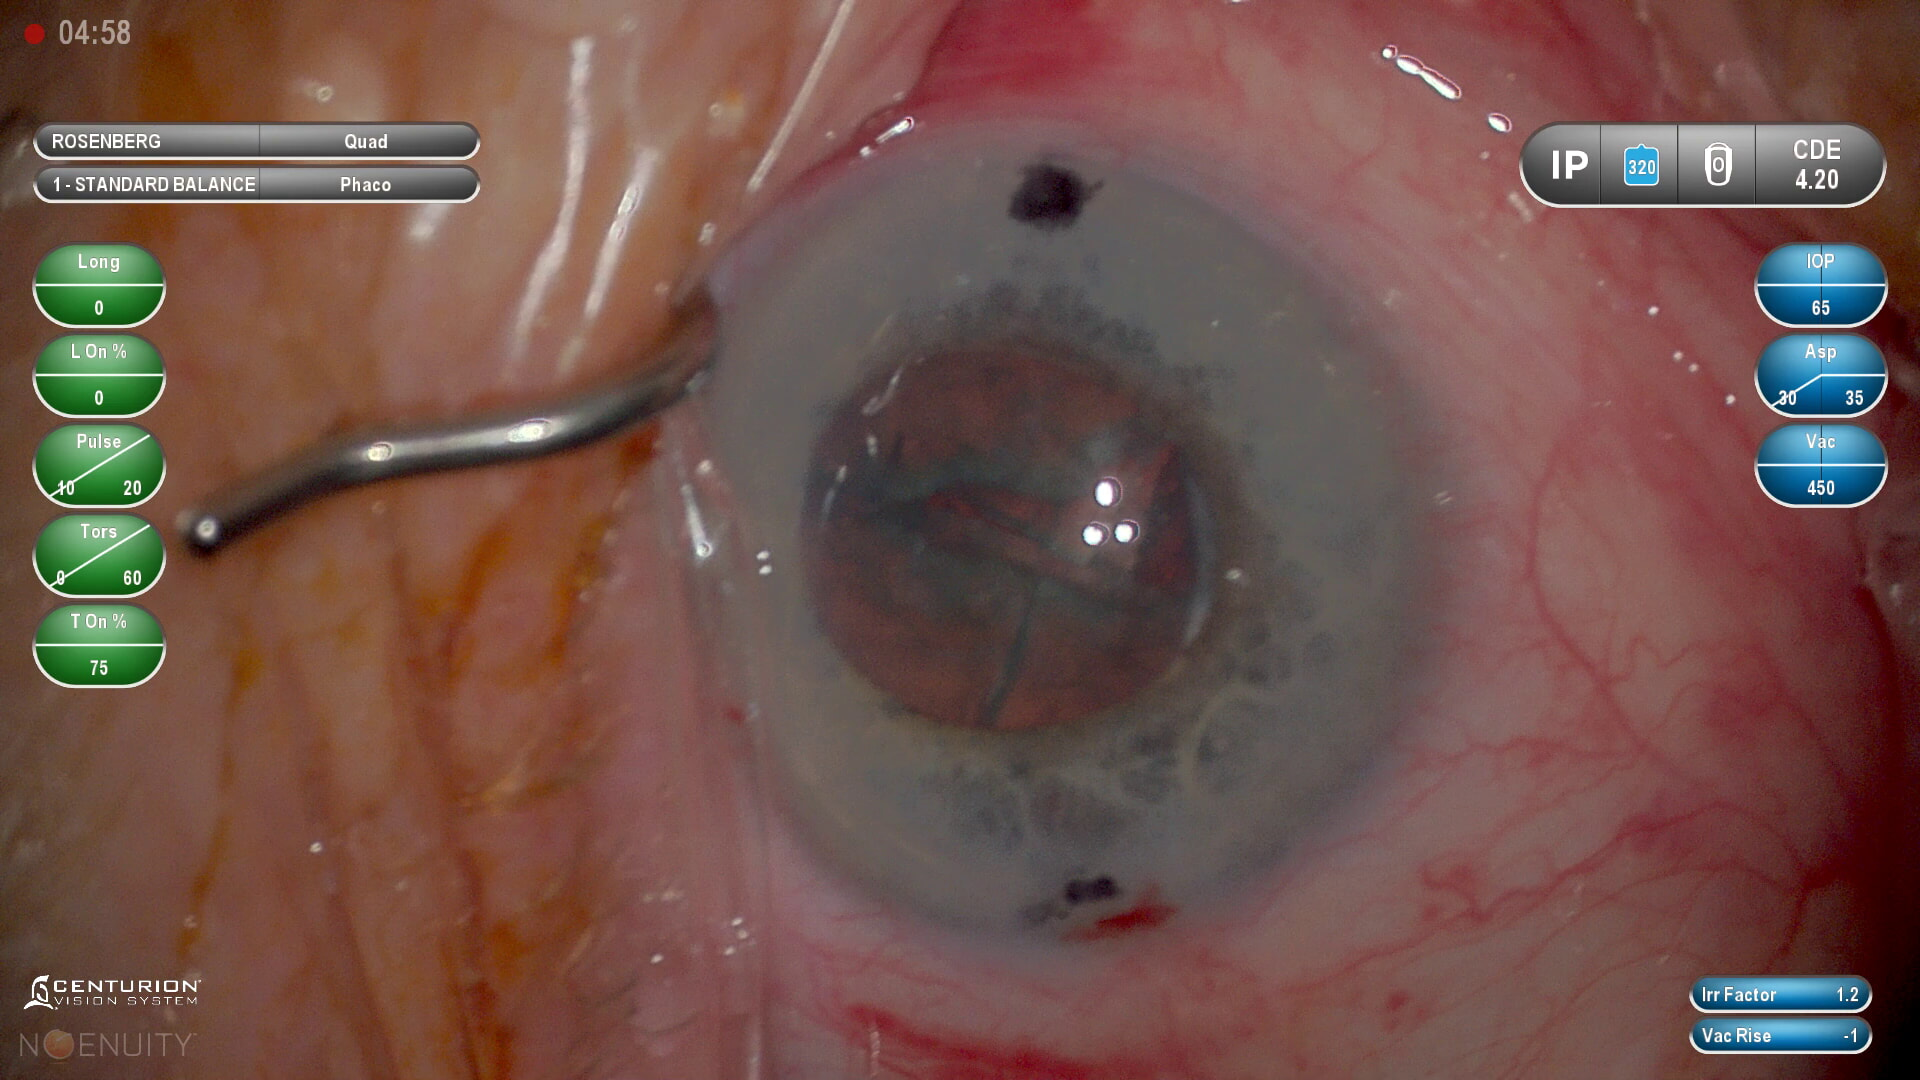iris: (703, 160, 1408, 939)
pupil: (796, 343, 1235, 738)
